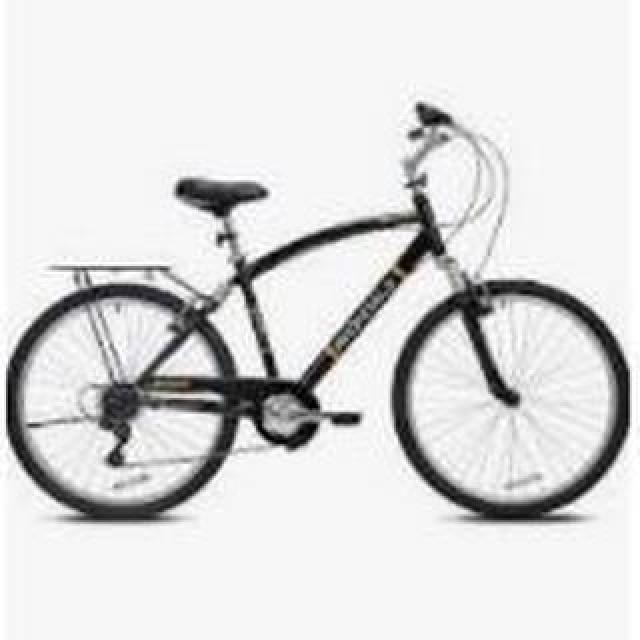Person: (7, 85, 633, 523)
